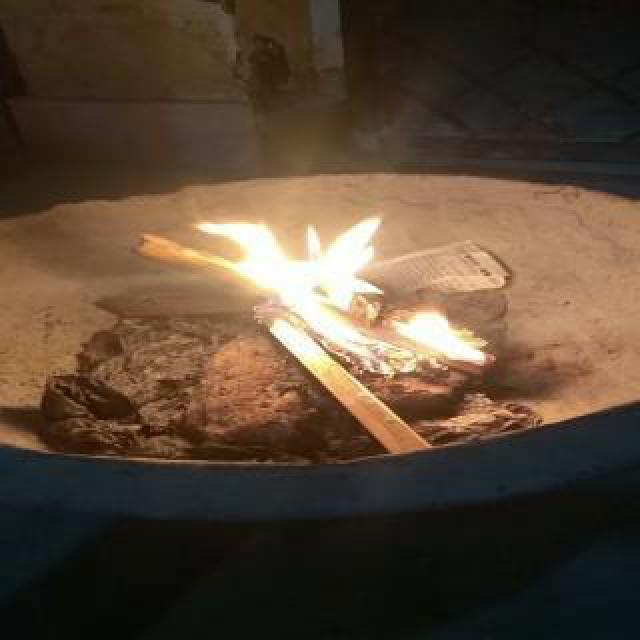Fire: (208, 210, 496, 390)
